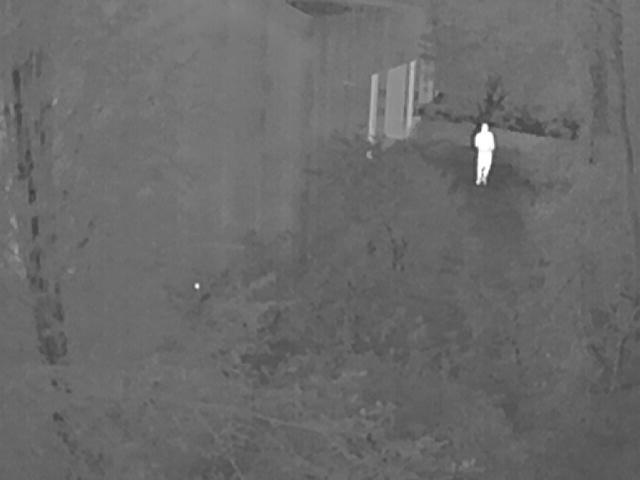person: (475, 121, 497, 185)
